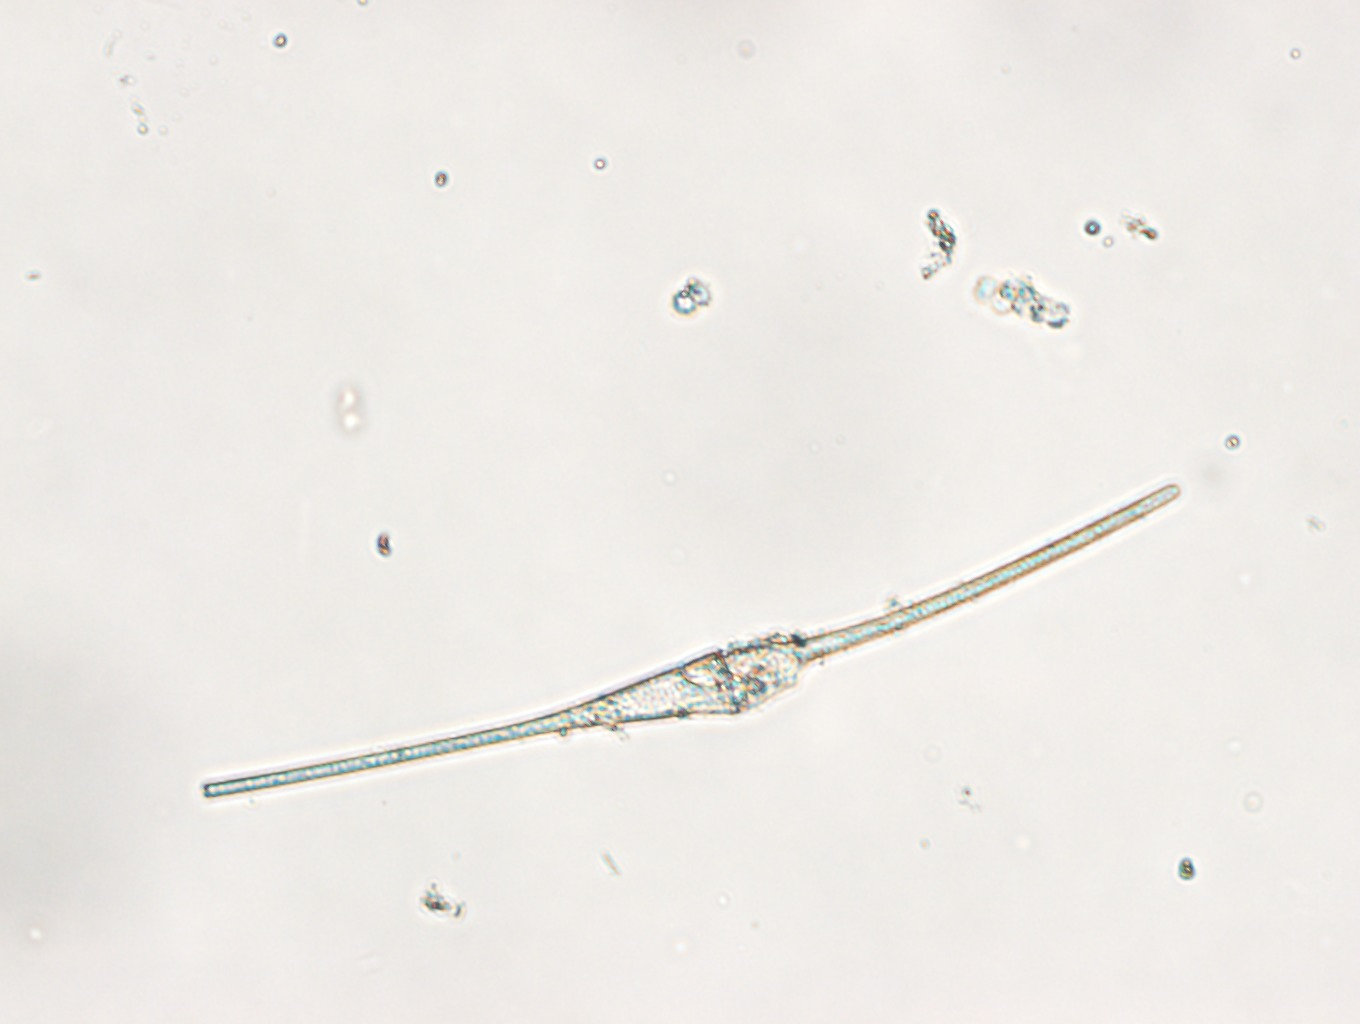ceratium fusus: (199, 481, 1185, 797)
